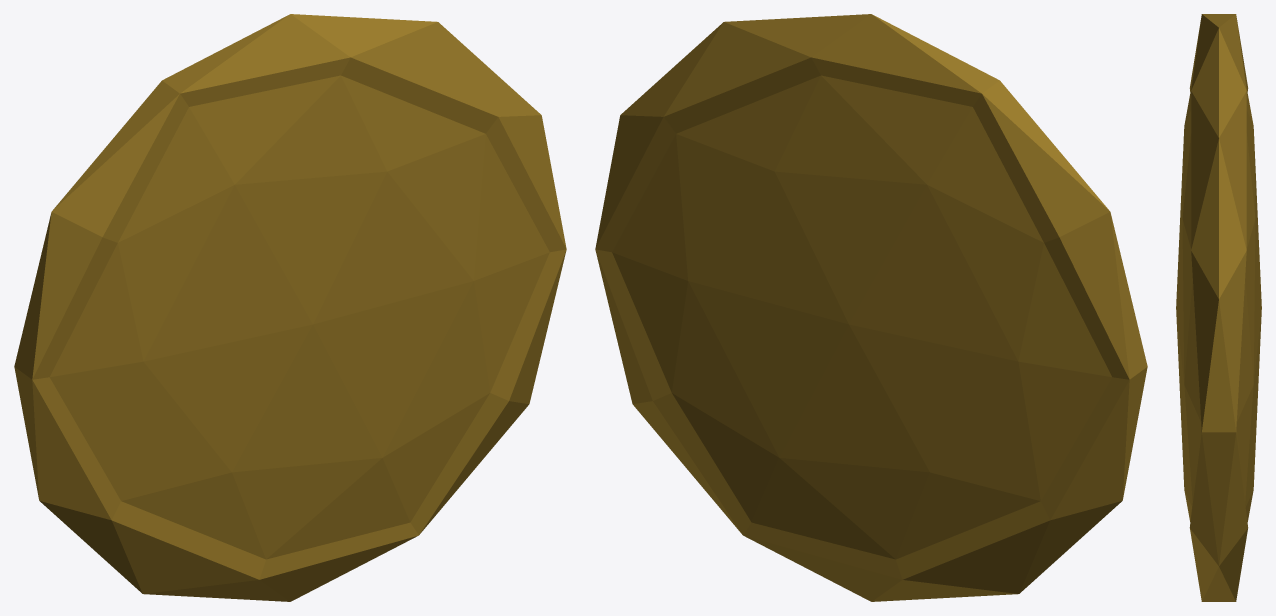
Rendered from Coin.fbx.
3 views of the same model, side by side, from view 1: azimuth 30°, elevation 25°; view 2: azimuth 150°, elevation 25°; view 3: azimuth 270°, elevation 25° (orthographic). The views are drawn at different scales.
Parts seen in each view (by area): view 1: Icosphere; view 2: Icosphere; view 3: Icosphere.
Boxes of the visible parts, x1,y1,x2,y2 form: Icosphere: (14, 14, 566, 601); Icosphere: (595, 14, 1147, 601); Icosphere: (1176, 14, 1261, 601).
Size of the model in its own units: 190 by 200 by 27.75.
